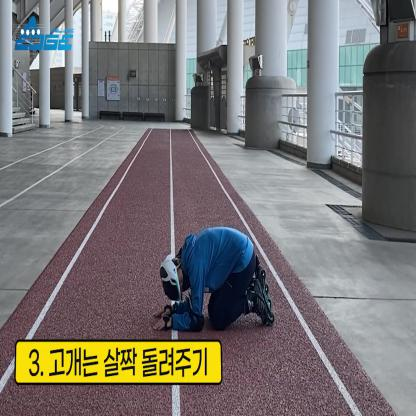Fall_Down: (152, 226, 272, 336)
